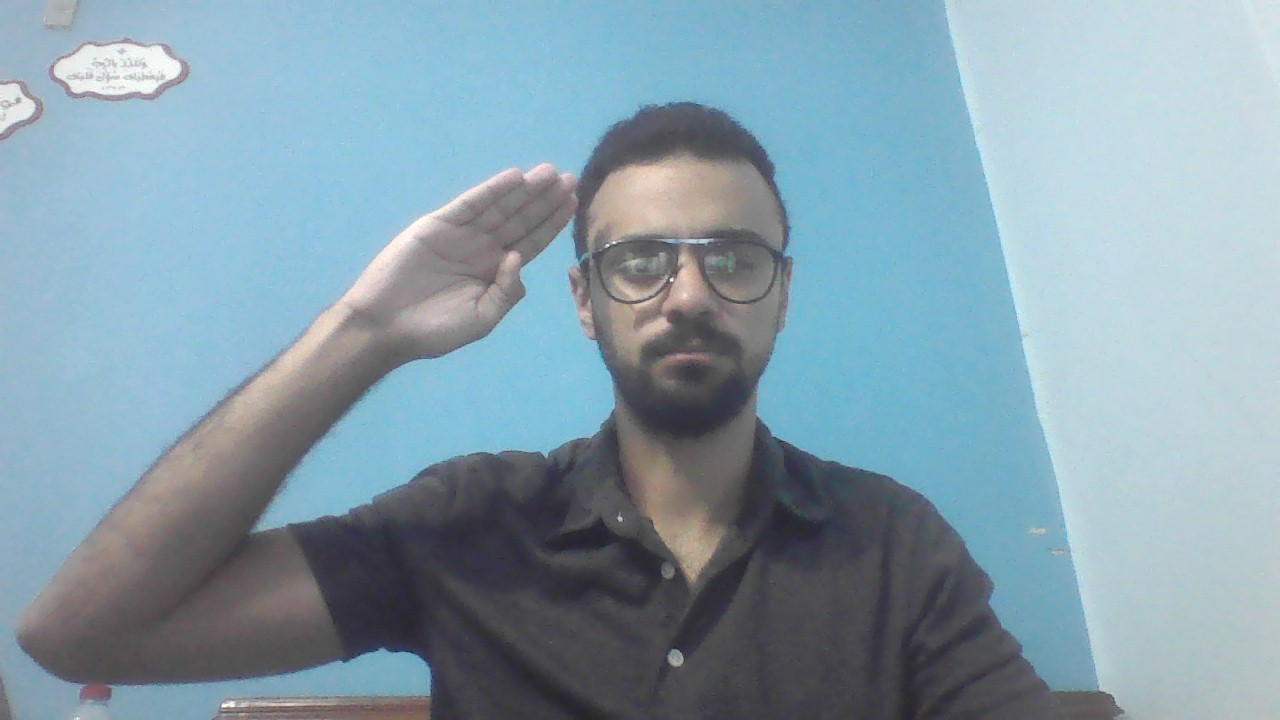hello: (20, 169, 577, 662)
